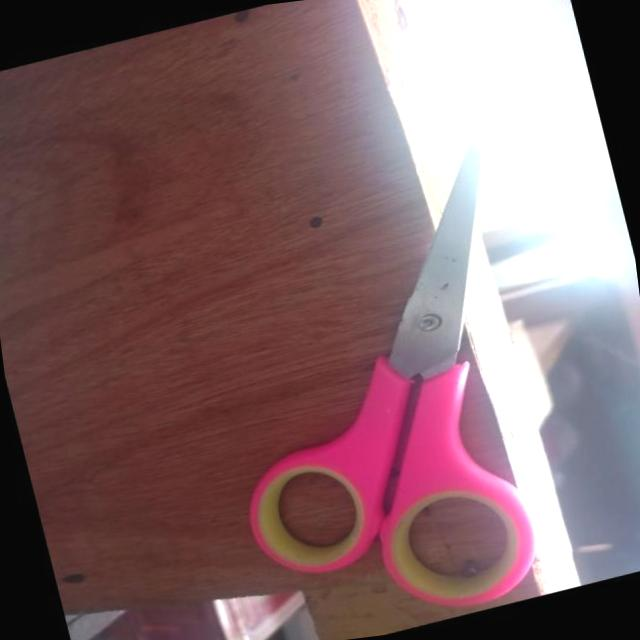scissors: (143, 97, 640, 640)
